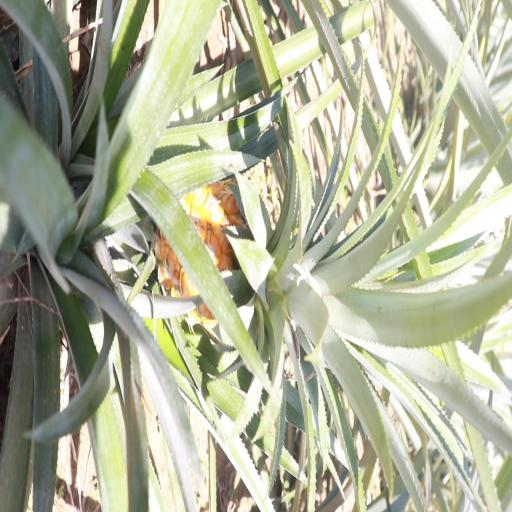Pineapple - v8 v1: (158, 174, 382, 354)
